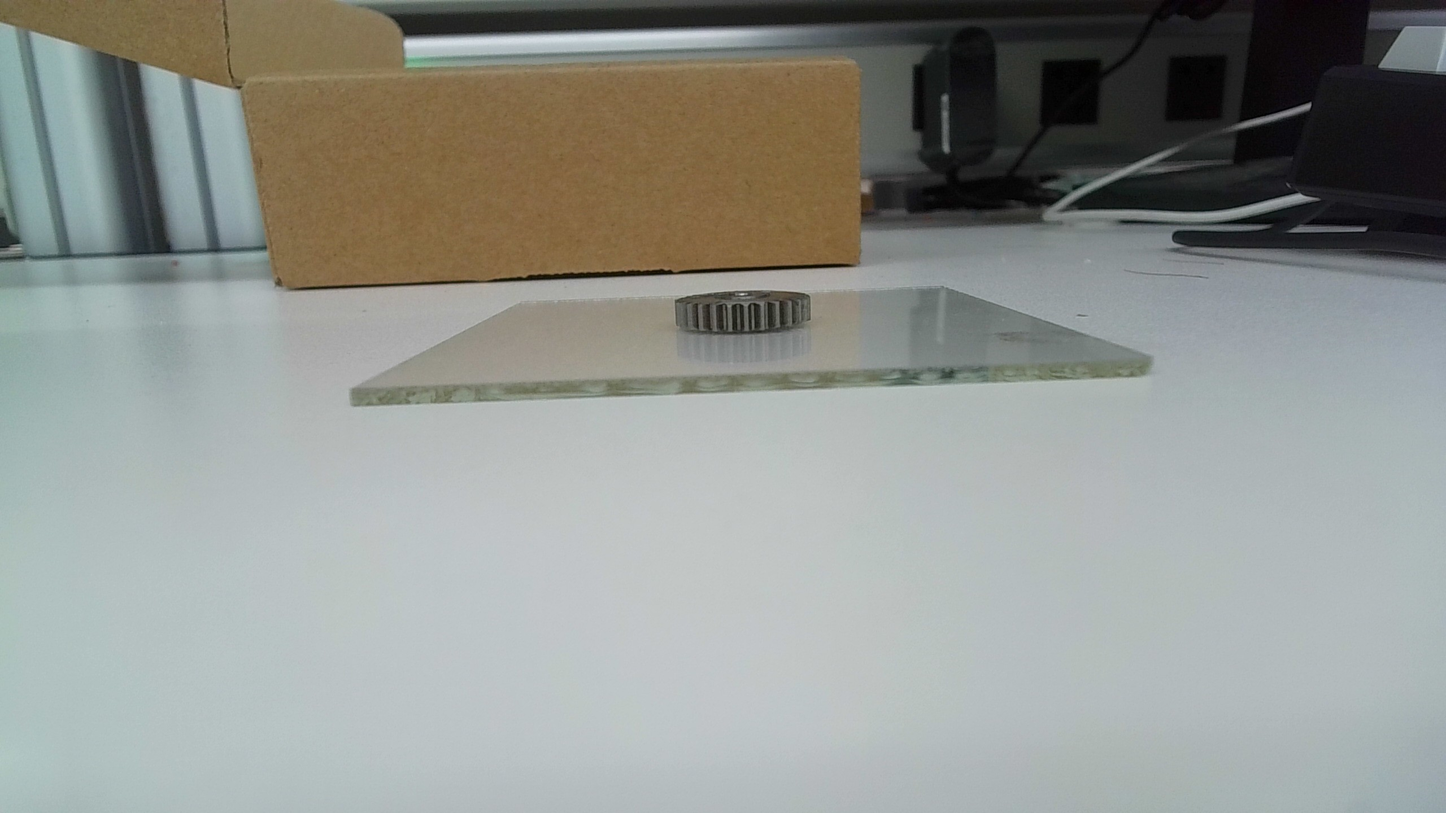gear: (673, 289, 815, 335)
